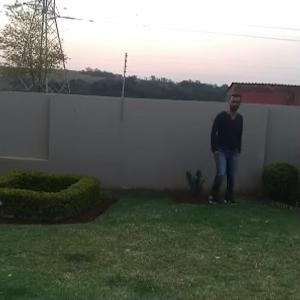follow: (201, 91, 250, 203)
